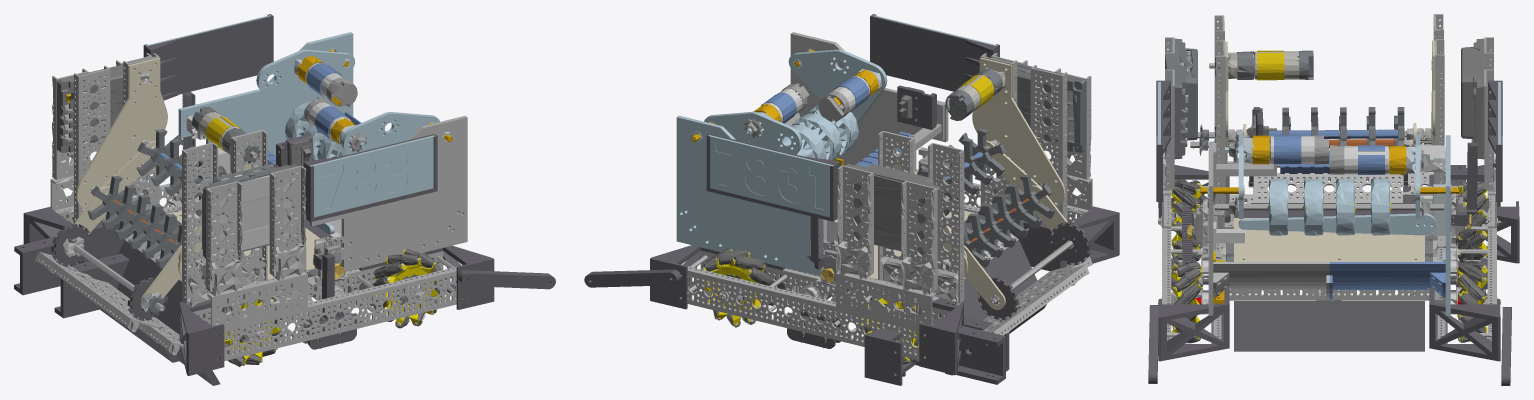
The model's file is robot.glb.
The picture shows the model from 3 angles, left to right: view 1: azimuth 30°, elevation 25°; view 2: azimuth 150°, elevation 25°; view 3: azimuth 270°, elevation 25°; orthographic projection. The views are drawn at different scales.
Visible parts, largest first — view 1: Drivetrain 0,1, Drivetrain -1,1, Drivetrain -1,-1, Drivetrain -1,0, Frame Plate -Y, Drivetrain 0,-1, Drivetrain 1,1, Frame Plate +Y, Pod COTS, Pod Plate +Y, Pod Plate -Y, Roller (+2 smaller); view 2: Drivetrain -1,-1, Drivetrain 0,-1, Drivetrain -1,1, Drivetrain -1,0, Frame Plate +Y, Drivetrain 0,1, Drivetrain 1,-1, Frame Plate -Y, Pod COTS, Pod Plate -Y, Roller, Pod Plate +Y (+2 smaller); view 3: Drivetrain 1,0, Printed Parts, Drivetrain -1,-1, Drivetrain -1,1, Drivetrain 0,0, Drivetrain 0,-1, Drivetrain 0,1, Drivetrain -1,0, Roller, Pod COTS, Drivetrain 1,1, Drivetrain 1,-1 (+6 smaller).
Boxes of the visible parts, x1=… form: Drivetrain 0,1: x1=193, y1=134, x2=463, y2=360; Drivetrain -1,1: x1=115, y1=128, x2=307, y2=375; Drivetrain -1,-1: x1=14, y1=53, x2=184, y2=318; Drivetrain -1,0: x1=36, y1=106, x2=240, y2=385; Frame Plate -Y: x1=309, y1=116, x2=467, y2=271; Drivetrain 0,-1: x1=60, y1=14, x2=273, y2=230; Drivetrain 1,1: x1=352, y1=245, x2=555, y2=326; Frame Plate +Y: x1=178, y1=32, x2=353, y2=155; Pod COTS: x1=294, y1=56, x2=434, y2=152; Pod Plate +Y: x1=256, y1=49, x2=355, y2=123; Pod Plate -Y: x1=341, y1=112, x2=439, y2=154; Roller: x1=285, y1=101, x2=346, y2=160; Drivetrain -1,-1: x1=836, y1=131, x2=1018, y2=385; Drivetrain 0,-1: x1=681, y1=133, x2=950, y2=360; Drivetrain -1,1: x1=958, y1=53, x2=1119, y2=285; Drivetrain -1,0: x1=915, y1=74, x2=1092, y2=375; Frame Plate +Y: x1=676, y1=115, x2=823, y2=276; Drivetrain 0,1: x1=870, y1=14, x2=1083, y2=223; Drivetrain 1,-1: x1=584, y1=245, x2=791, y2=320; Frame Plate -Y: x1=790, y1=32, x2=948, y2=172; Pod COTS: x1=709, y1=58, x2=881, y2=138; Pod Plate -Y: x1=788, y1=49, x2=887, y2=123; Roller: x1=784, y1=104, x2=858, y2=160; Pod Plate +Y: x1=704, y1=111, x2=802, y2=154; Drivetrain 1,0: x1=1234, y1=301, x2=1424, y2=351; Printed Parts: x1=1213, y1=143, x2=1445, y2=303; Drivetrain -1,-1: x1=1397, y1=14, x2=1519, y2=278; Drivetrain -1,1: x1=1158, y1=15, x2=1278, y2=261; Drivetrain 0,0: x1=1224, y1=210, x2=1433, y2=300; Drivetrain 0,-1: x1=1414, y1=69, x2=1502, y2=343; Drivetrain 0,1: x1=1156, y1=69, x2=1276, y2=343; Drivetrain -1,0: x1=1190, y1=50, x2=1433, y2=228; Roller: x1=1215, y1=178, x2=1444, y2=235; Pod COTS: x1=1225, y1=135, x2=1434, y2=196; Drivetrain 1,1: x1=1148, y1=268, x2=1229, y2=383; Drivetrain 1,-1: x1=1429, y1=274, x2=1511, y2=385.
Size of the model in its own units: 0.5908 by 0.3383 by 0.4663.
